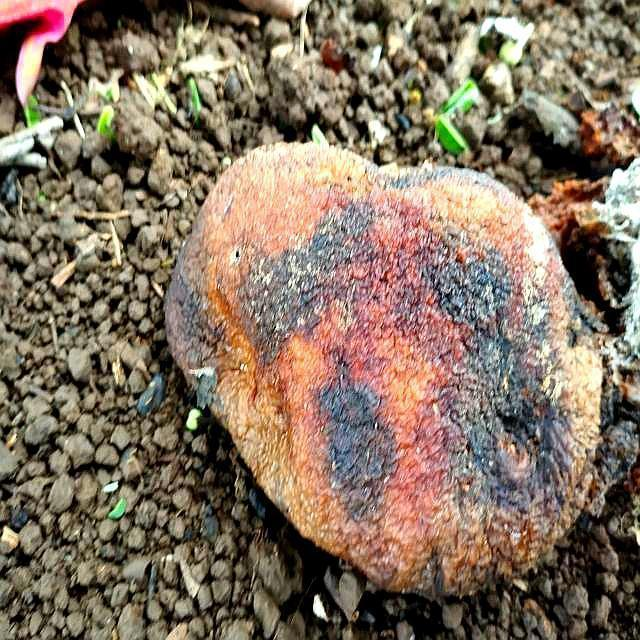Biodegradable: (173, 145, 603, 601)
